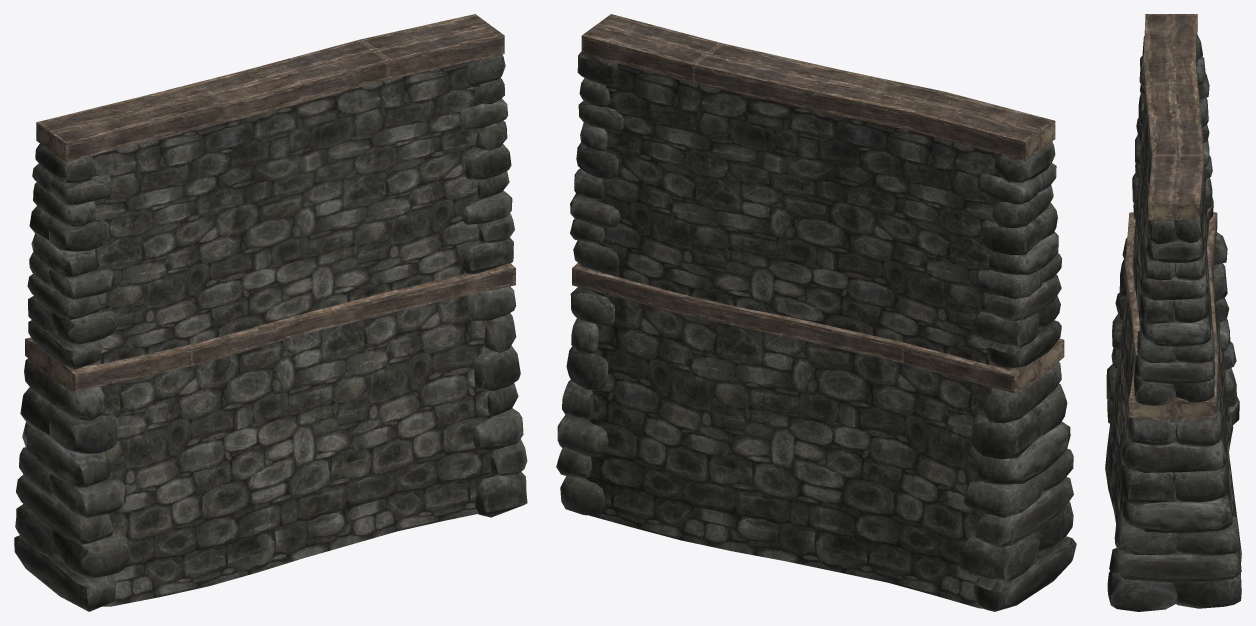
The model's file is jav_struc_def_Stone_t2_Wall_A_bot-transformed.glb.
The picture shows the model from 3 angles, left to right: view 1: azimuth 30°, elevation 25°; view 2: azimuth 150°, elevation 25°; view 3: azimuth 270°, elevation 25°; orthographic projection. The views are drawn at different scales.
Parts seen in each view (by area): view 1: default; view 2: default; view 3: default.
Part boxes in pixels (bbox=[...]): default: bbox=[14, 14, 527, 611]; default: bbox=[556, 14, 1076, 611]; default: bbox=[1105, 14, 1241, 611].
Size of the model in its own units: 8.24 by 8.03 by 2.44.
Materials: 3 (3 with a texture image).
